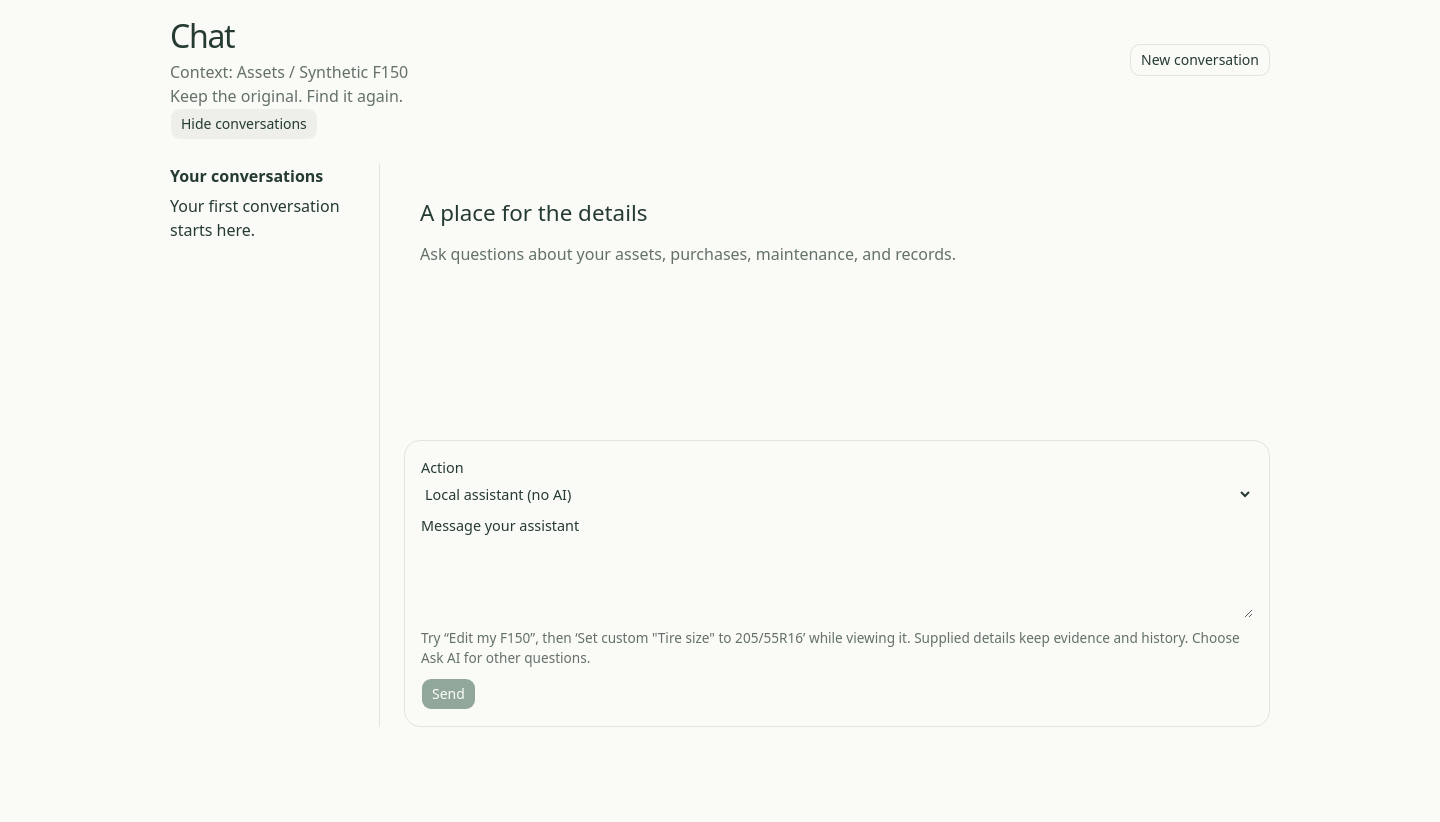
Test: opens the uniquely resolved asset and retains an explicit open action
The image size is (1440, 822).
expect the heading "A place for the details" is shown: met, box [420,197,648,228]
In the text box labelled "Message your assistant": (837, 582) [421,546,1253,618], type "Edit my F150"
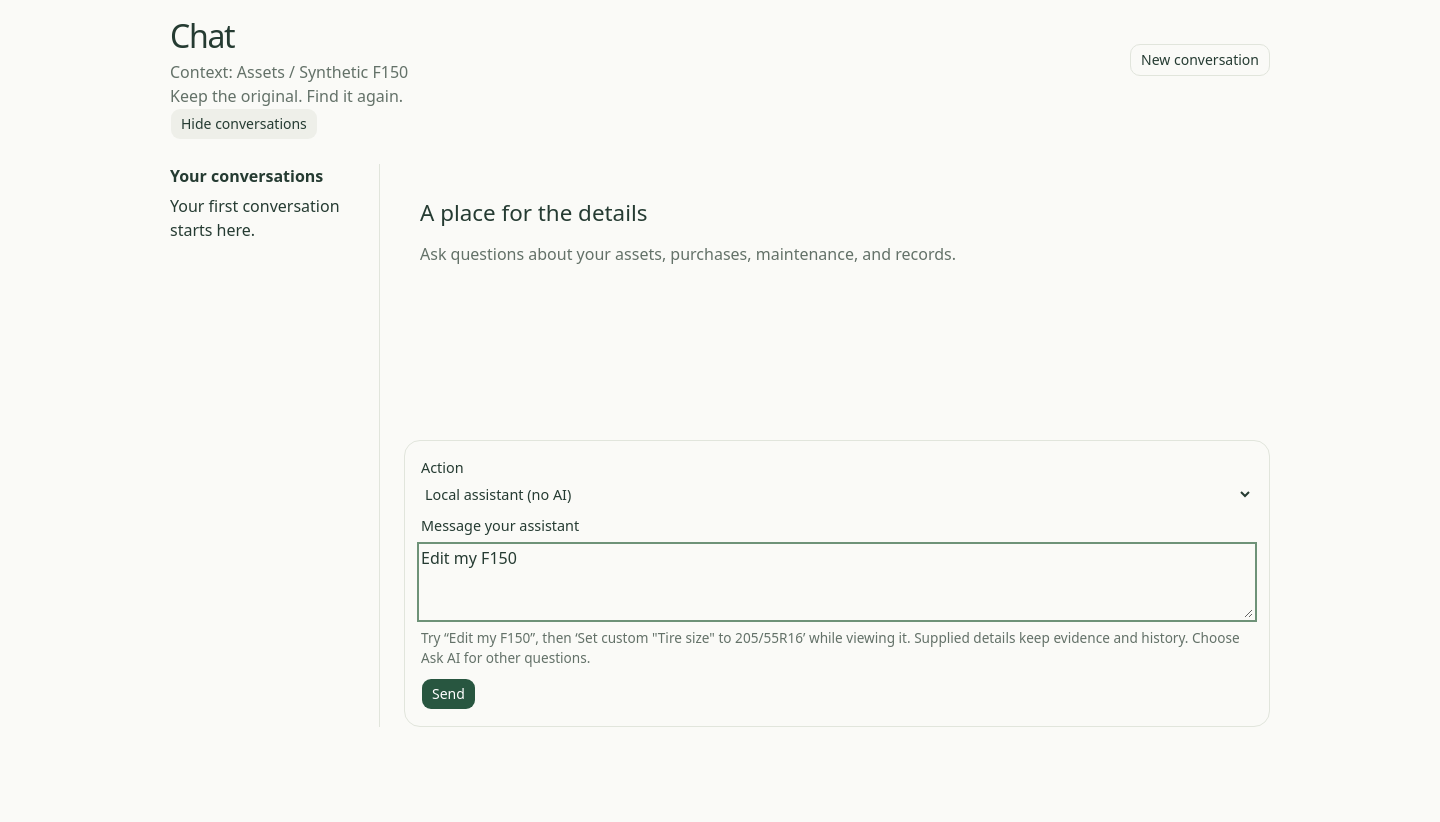
Click the button "Send": click(448, 694) [421,678,476,710]
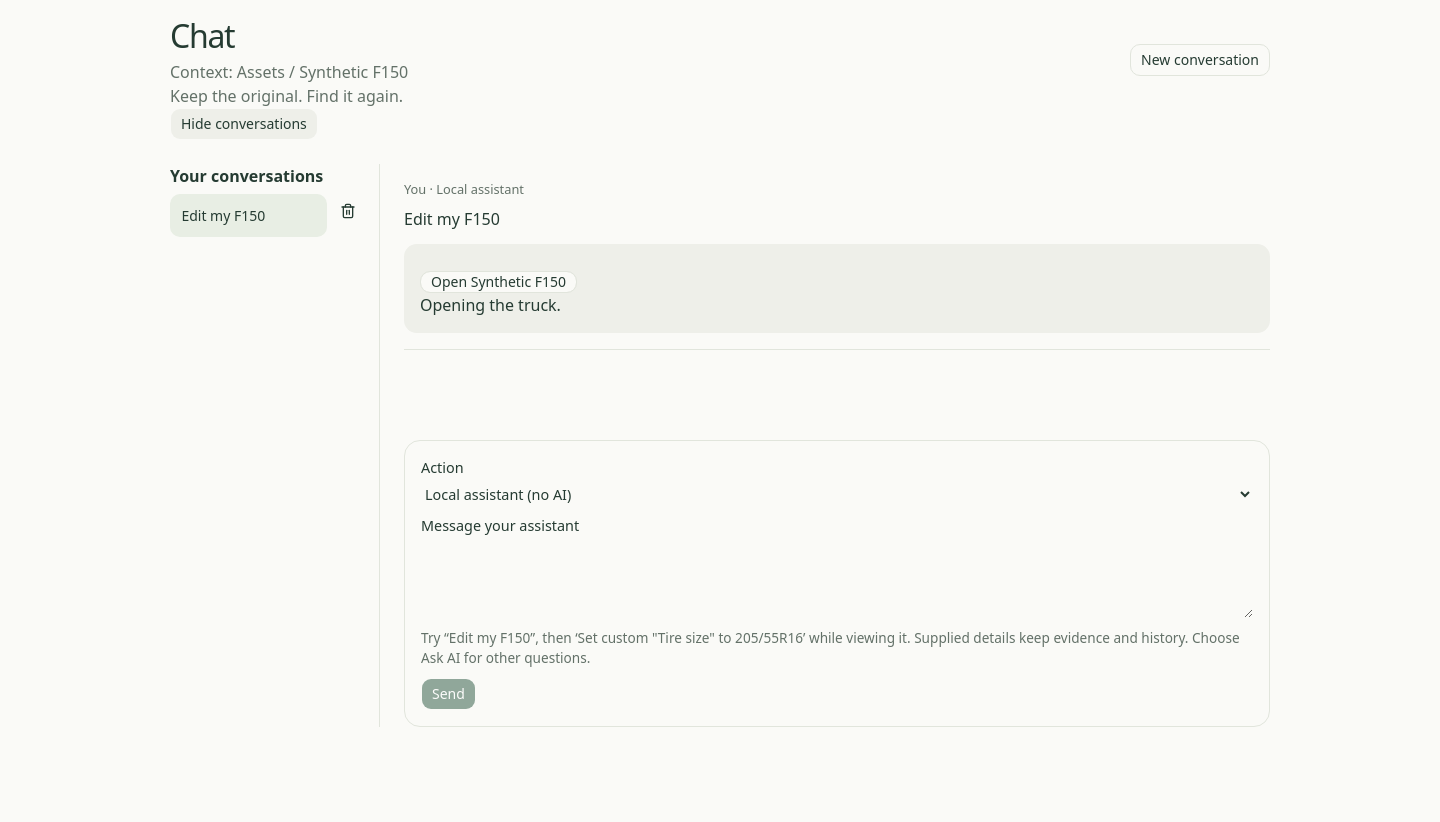
expect the button "Open Synthetic F150" is shown: met, box [420,271,577,293]
